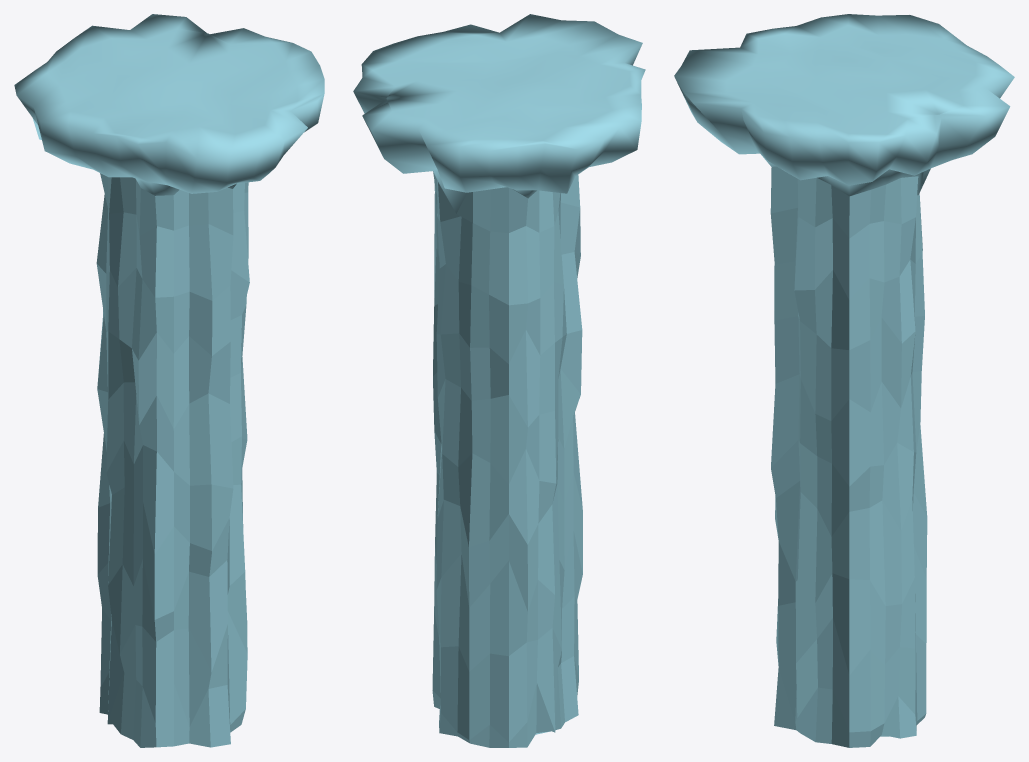
File: ThePlatform.fbx
3 views of the same model, side by side, from view 1: azimuth 30°, elevation 25°; view 2: azimuth 150°, elevation 25°; view 3: azimuth 270°, elevation 25° (orthographic).
Visible parts, largest first — view 1: Plane; view 2: Plane; view 3: Plane.
Boxes of the visible parts, x1=… form: Plane: x1=14, y1=14, x2=324, y2=747; Plane: x1=353, y1=14, x2=645, y2=747; Plane: x1=674, y1=14, x2=1014, y2=747.
Size of the model in its own units: 3589 by 8099 by 3887.
